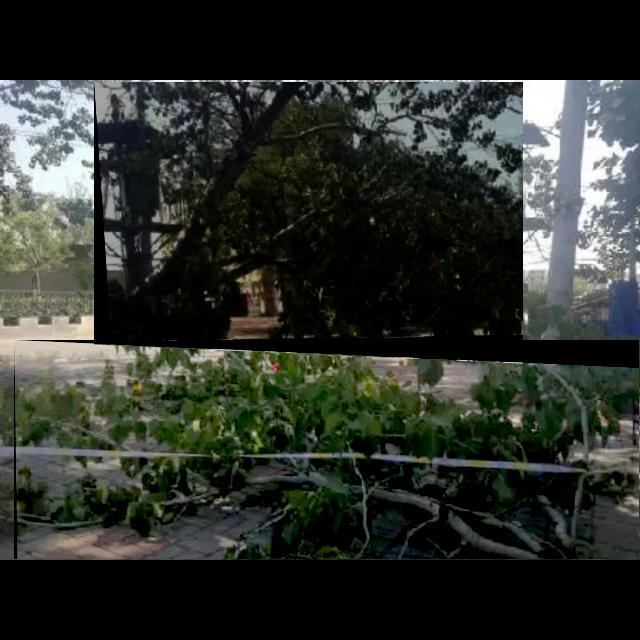fallen_tree: (14, 340, 640, 560), (94, 82, 524, 342)
